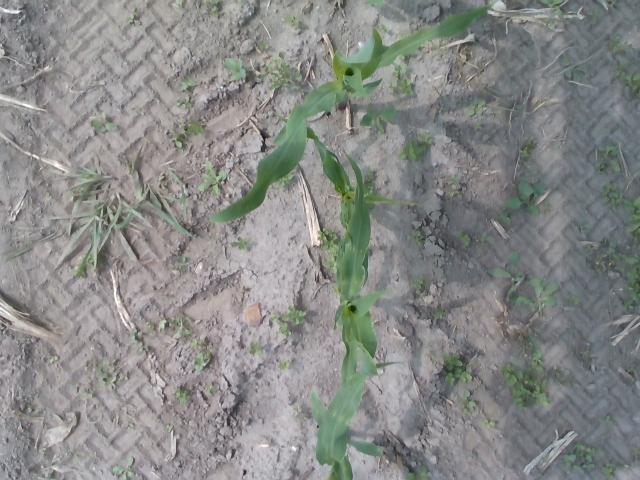Maize: (208, 0, 499, 221), (272, 110, 431, 250), (334, 150, 392, 394), (308, 361, 402, 480), (332, 0, 386, 6)
Weeds: (52, 155, 192, 268), (503, 359, 553, 410), (487, 250, 524, 303), (258, 51, 302, 90), (513, 276, 559, 309), (504, 180, 546, 216), (398, 130, 435, 165), (358, 102, 397, 134), (588, 237, 621, 274), (386, 58, 416, 98), (94, 355, 128, 390), (613, 57, 640, 100), (196, 159, 226, 196), (621, 251, 640, 309), (442, 354, 472, 387), (564, 441, 596, 471), (172, 122, 204, 150), (593, 143, 622, 173), (624, 193, 640, 245), (560, 57, 590, 84), (71, 248, 96, 278), (600, 182, 624, 210), (518, 136, 539, 168), (316, 226, 339, 253), (270, 310, 292, 338), (170, 314, 192, 340), (523, 333, 543, 360), (112, 456, 134, 480), (224, 58, 246, 82), (66, 382, 95, 400), (282, 304, 306, 325), (538, 0, 564, 18), (608, 34, 634, 52), (552, 366, 573, 388), (360, 169, 376, 197), (458, 390, 476, 414), (91, 118, 118, 133), (466, 98, 487, 117), (602, 458, 620, 480), (404, 464, 428, 480), (194, 350, 212, 371), (407, 229, 427, 247), (410, 274, 430, 292), (290, 405, 310, 423), (321, 253, 338, 274), (171, 254, 188, 274), (202, 0, 220, 18), (276, 170, 294, 188), (230, 236, 253, 250), (178, 75, 196, 91), (456, 230, 472, 247), (175, 388, 190, 406), (575, 218, 593, 232), (284, 13, 302, 26), (150, 318, 168, 330), (156, 172, 168, 190), (250, 341, 264, 356), (564, 293, 580, 306), (126, 12, 140, 26), (600, 414, 616, 426), (175, 98, 192, 109), (544, 17, 558, 30), (131, 328, 143, 343), (190, 336, 208, 346), (480, 232, 496, 243), (543, 200, 556, 213), (447, 186, 461, 198), (432, 308, 448, 318), (589, 10, 600, 24), (450, 173, 462, 185), (498, 212, 510, 224), (580, 348, 591, 360), (480, 419, 496, 427), (398, 52, 412, 61), (280, 360, 290, 372), (330, 282, 340, 294), (524, 170, 538, 178), (205, 386, 218, 394), (49, 354, 60, 363), (258, 41, 269, 50), (138, 346, 148, 355), (473, 123, 483, 131), (516, 104, 526, 112), (379, 24, 388, 32), (174, 0, 184, 7), (632, 448, 640, 456), (166, 423, 173, 431), (235, 0, 242, 3), (441, 276, 446, 280)
